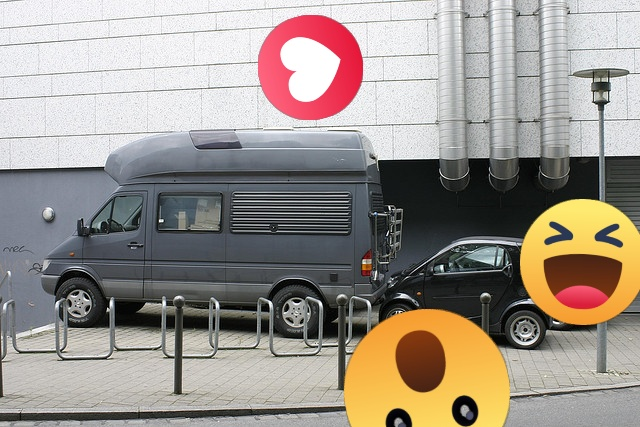haha: (520, 199, 640, 325)
love: (258, 15, 363, 120)
wow: (344, 309, 510, 427)
